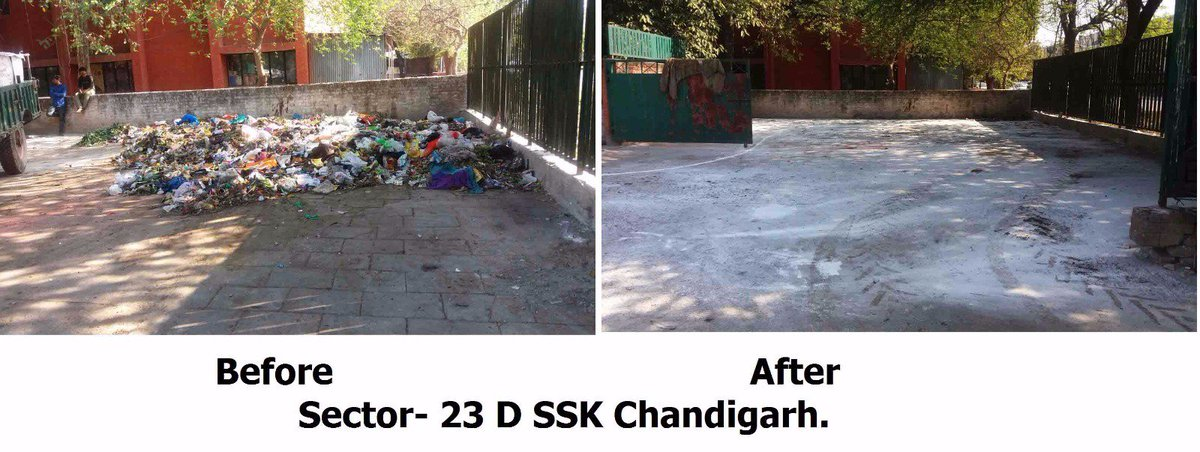BAD: (92, 99, 547, 235), (62, 122, 522, 220), (368, 105, 544, 198), (92, 116, 234, 224), (182, 106, 317, 215), (283, 107, 382, 207)
Good: (598, 125, 1200, 328), (758, 98, 1193, 316), (641, 105, 1135, 239)
IGNORE: (211, 348, 343, 396), (737, 344, 861, 392)
